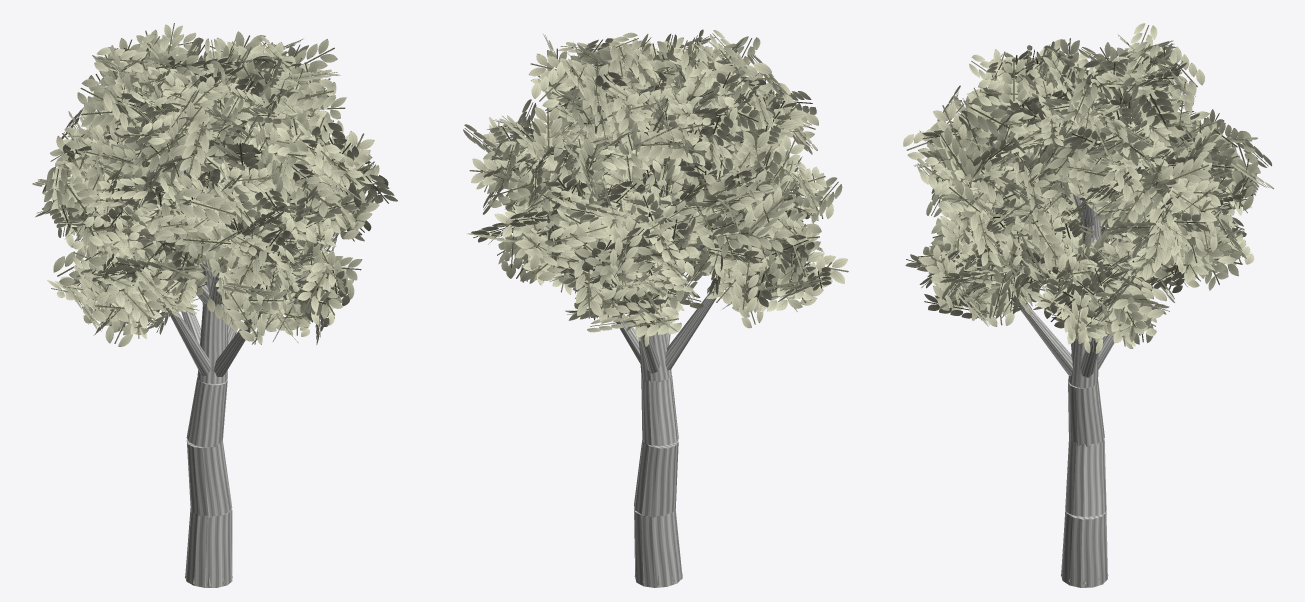
The model's file is woodland-v03.glb.
3 views of the same model, side by side, from view 1: azimuth 30°, elevation 25°; view 2: azimuth 150°, elevation 25°; view 3: azimuth 270°, elevation 25° (orthographic).
Parts seen in each view (by area): view 1: canopyA, canopyB, trunk; view 2: canopyA, canopyB, trunk; view 3: canopyA, canopyB, trunk.
Part boxes in pixels (x1,y1,x2,y2): canopyA: (32,23,397,346); canopyB: (38,29,388,344); trunk: (81,63,328,587); canopyA: (463,29,848,346); canopyB: (483,30,821,331); trunk: (545,48,762,587); canopyA: (903,23,1274,353); canopyB: (920,34,1247,344); trunk: (953,53,1222,587).
Bounding box in the file's own units: 4.34 × 6.1 × 4.23.
2 materials, 2 textured.
